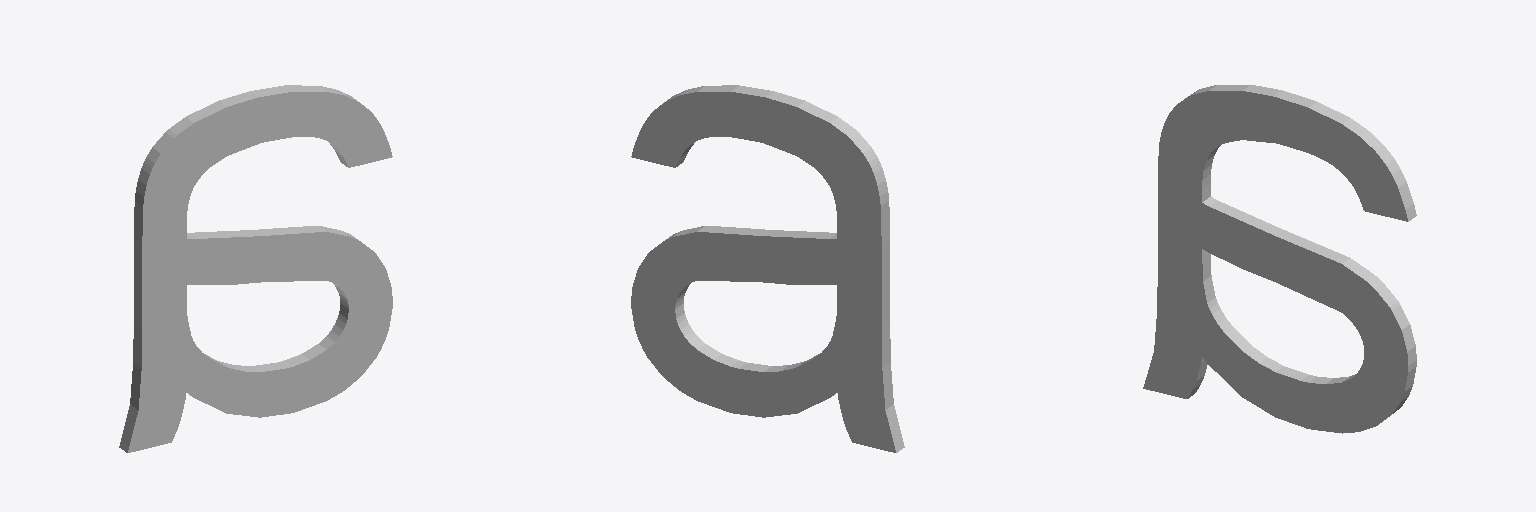
File: a_lower.obj
The picture shows the model from 3 angles: view 1: azimuth 30°, elevation 25°; view 2: azimuth 150°, elevation 25°; view 3: azimuth 330°, elevation 25°; orthographic projection.
Visible parts, largest first — view 1: default; view 2: default; view 3: default.
Boxes of the visible parts, x1=… form: default: x1=119, y1=85, x2=392, y2=452; default: x1=631, y1=85, x2=904, y2=452; default: x1=1143, y1=85, x2=1416, y2=433.
Bounding box in the file's own units: 1.8 × 2.1 × 0.1.